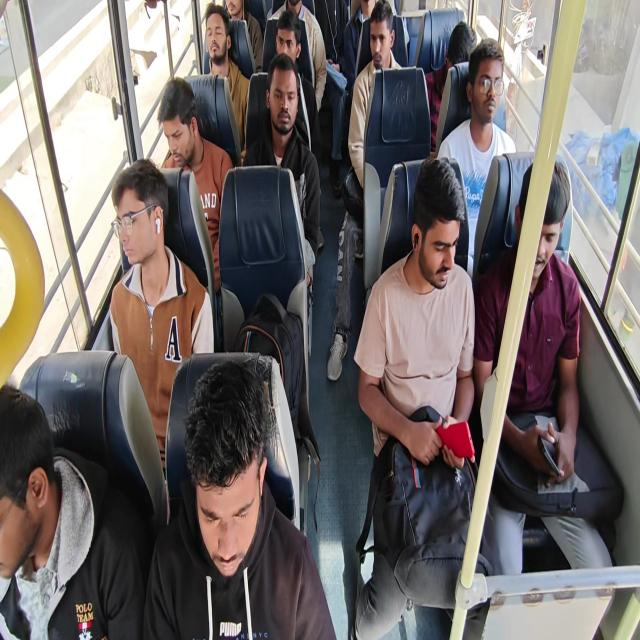person: (163, 345, 324, 599), (0, 362, 67, 639), (114, 166, 181, 346), (517, 155, 581, 322), (413, 185, 476, 325), (148, 66, 220, 172), (468, 44, 513, 150), (268, 59, 310, 170), (198, 7, 239, 100), (316, 0, 354, 64), (443, 24, 474, 76), (274, 9, 304, 62), (370, 14, 394, 75), (273, 0, 310, 34), (220, 0, 255, 24), (354, 0, 382, 27)
